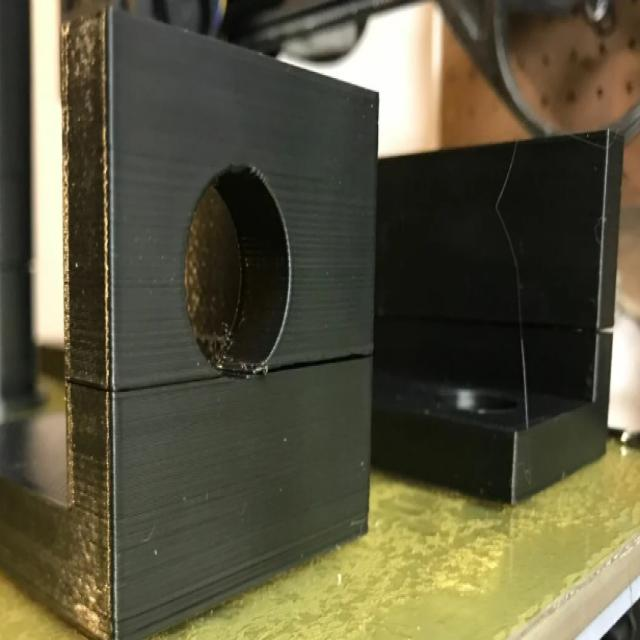cracks: (267, 341, 368, 388), (80, 364, 222, 396), (508, 314, 615, 344)
